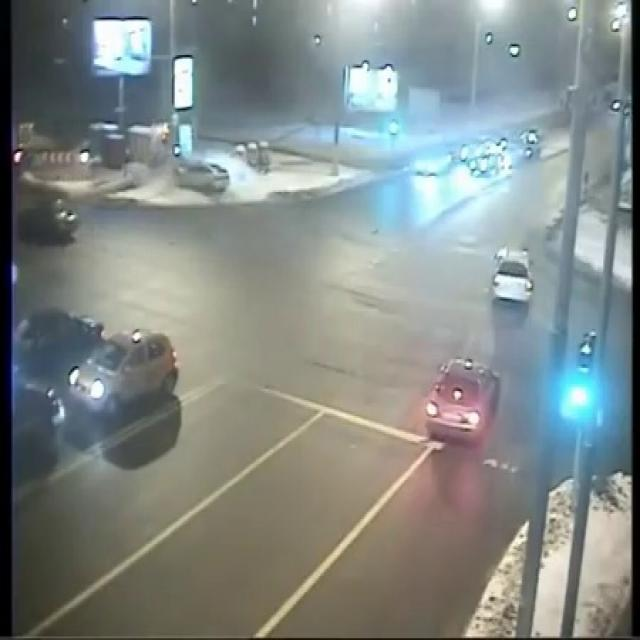accident: (148, 138, 244, 200)
